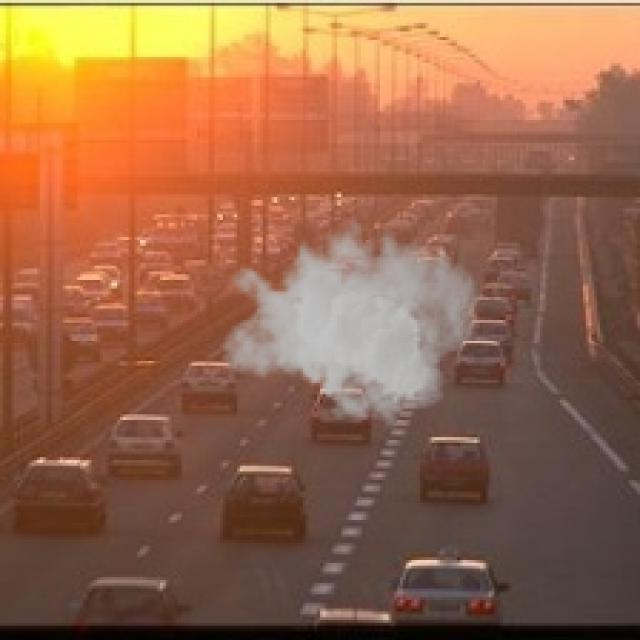smoke: (220, 205, 480, 428)
